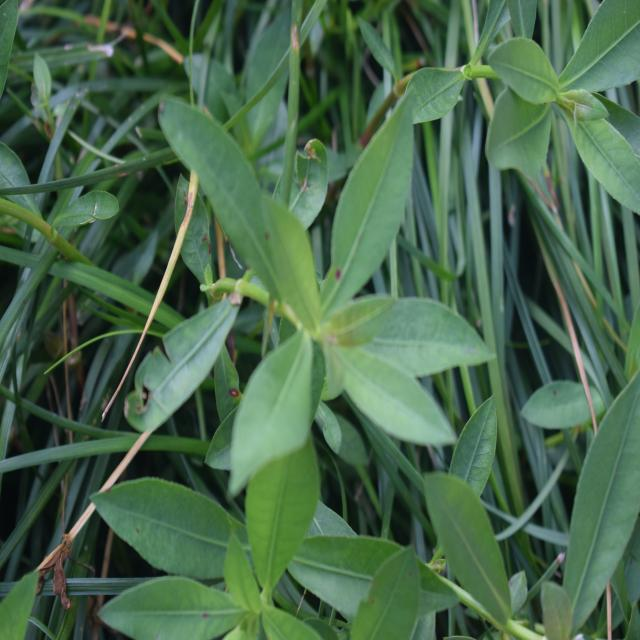Alligatorweed: (161, 54, 495, 510), (453, 0, 638, 224)
